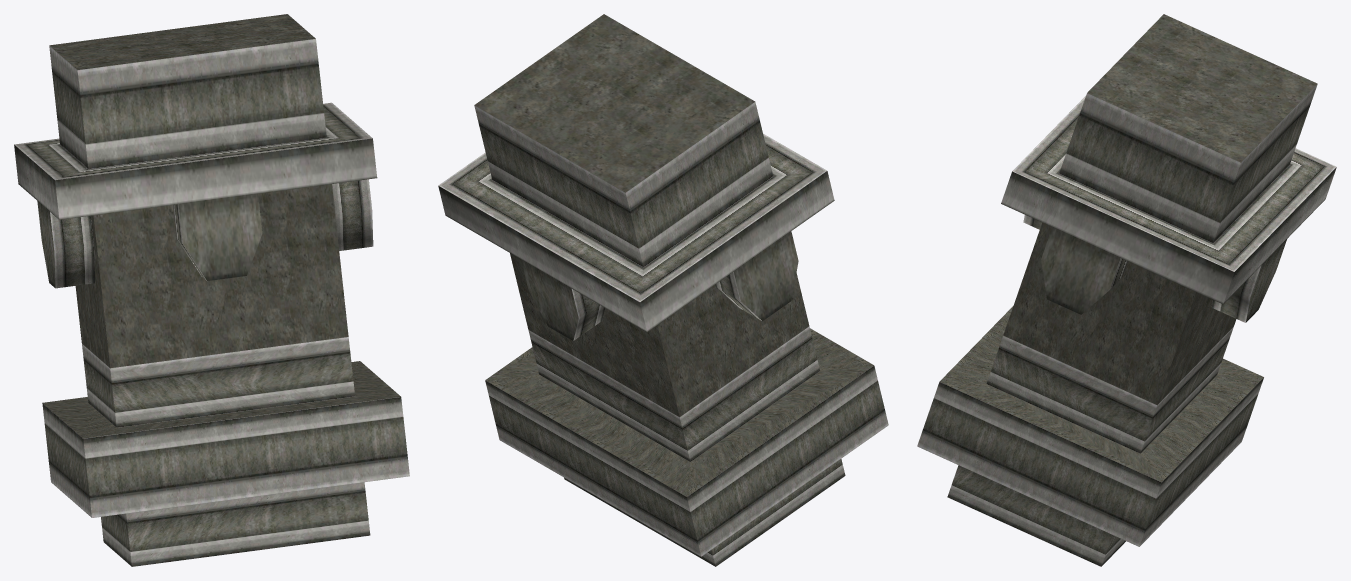
Rendered from DWARF_PALACE_MAINHALL_BALK_DEBREE03.fbx.
The picture shows the model from 3 angles, left to right: view 1: azimuth 30°, elevation 25°; view 2: azimuth 150°, elevation 25°; view 3: azimuth 270°, elevation 25°; orthographic projection. The views are drawn at different scales.
Visible parts, largest first — view 1: DWARF_PALACE_MAINHALL_BALK_DEBREE03; view 2: DWARF_PALACE_MAINHALL_BALK_DEBREE03; view 3: DWARF_PALACE_MAINHALL_BALK_DEBREE03.
Part boxes in pixels (x1=…): DWARF_PALACE_MAINHALL_BALK_DEBREE03: x1=14, y1=14, x2=409, y2=566; DWARF_PALACE_MAINHALL_BALK_DEBREE03: x1=438, y1=14, x2=888, y2=566; DWARF_PALACE_MAINHALL_BALK_DEBREE03: x1=917, y1=14, x2=1336, y2=566.
Bounding box in the file's own units: 15773 × 21245 × 17170.
2 materials, 2 textured.
